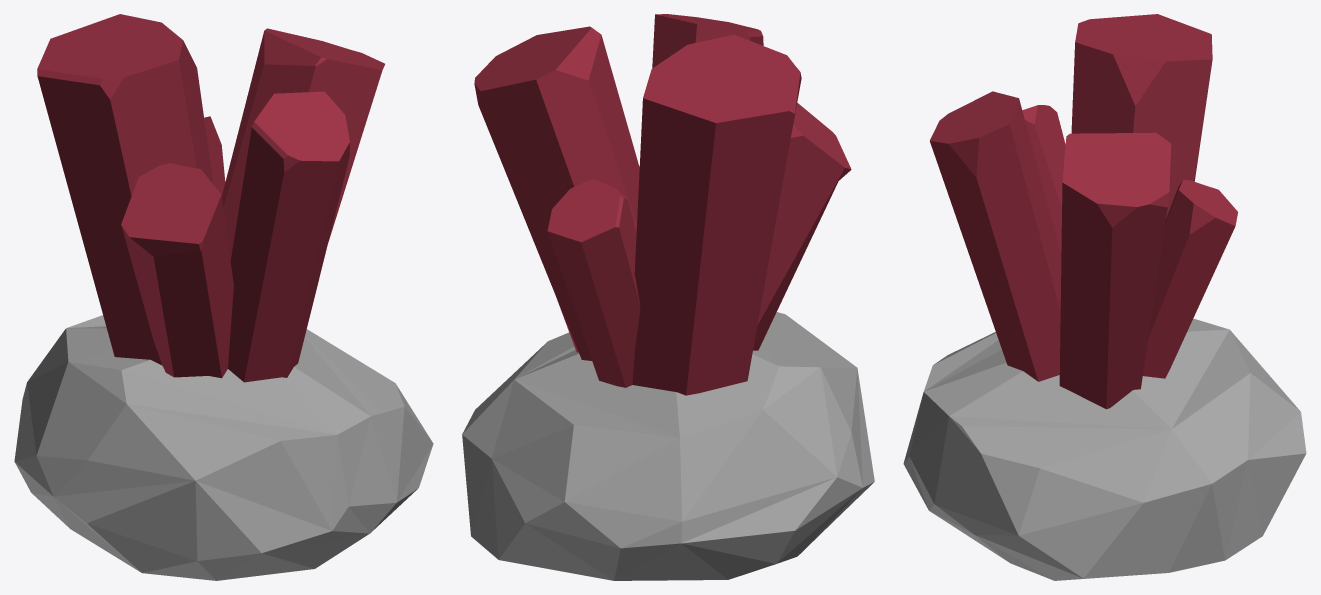
Rendered from fifthmineral.glb.
3 views of the same model, side by side, from view 1: azimuth 30°, elevation 25°; view 2: azimuth 150°, elevation 25°; view 3: azimuth 270°, elevation 25° (orthographic). The views are drawn at different scales.
Visible parts, largest first — view 1: crystal_basalt_red; view 2: crystal_basalt_red; view 3: crystal_basalt_red.
Boxes of the visible parts, left/top/right/bottom form: crystal_basalt_red: left=14, top=14, right=433, bottom=580; crystal_basalt_red: left=462, top=14, right=874, bottom=580; crystal_basalt_red: left=903, top=14, right=1306, bottom=580.
Bounding box in the file's own units: 1.81 × 2.37 × 1.88.
